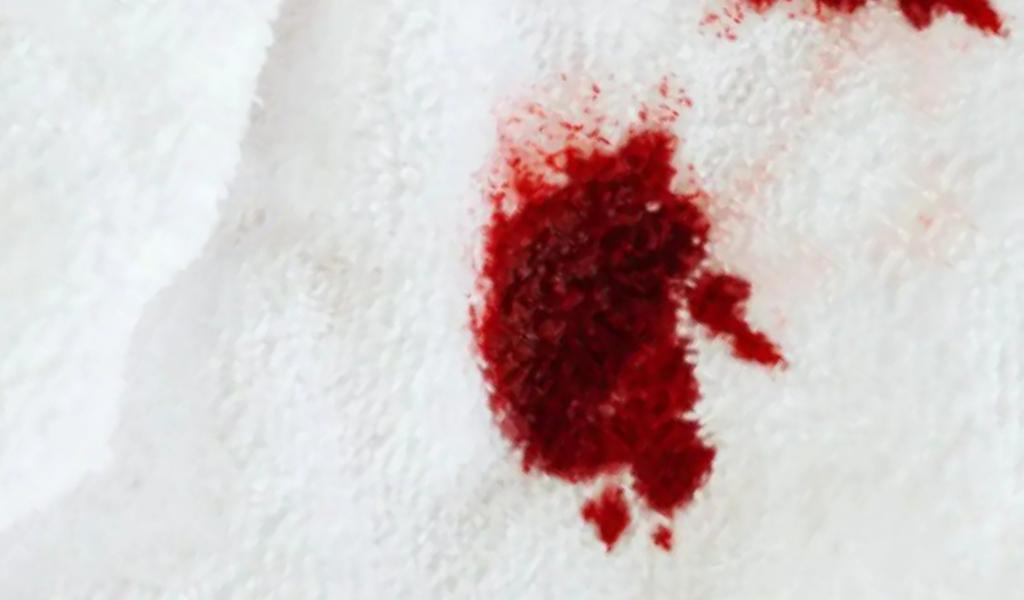stain: (460, 77, 789, 569), (693, 0, 1017, 63)
